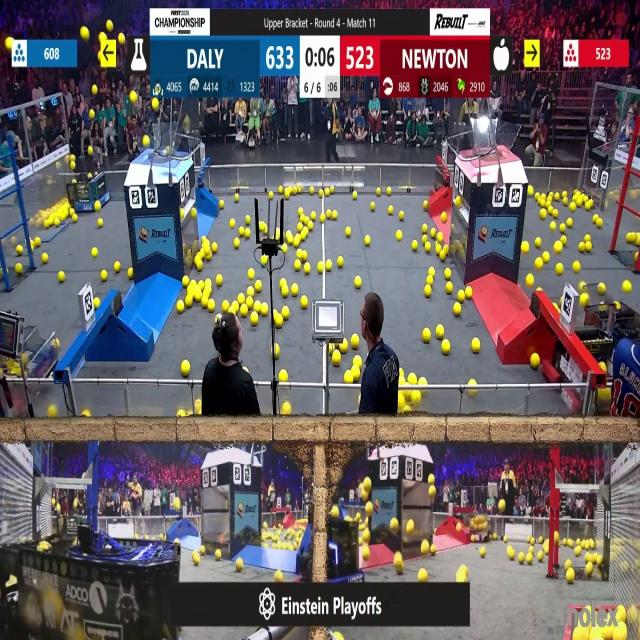ball_airborne: (362, 479, 371, 493), (80, 28, 89, 40), (142, 136, 150, 148), (106, 22, 114, 33), (131, 92, 138, 104), (151, 99, 158, 111), (498, 499, 505, 511), (173, 498, 180, 510), (117, 34, 124, 45), (100, 32, 107, 43), (6, 38, 12, 50), (365, 502, 371, 514), (428, 473, 434, 484), (93, 86, 99, 96), (70, 162, 76, 171), (91, 110, 96, 118), (90, 146, 94, 155), (70, 154, 76, 160), (73, 499, 77, 508)
ball_ground: (394, 554, 403, 574), (457, 567, 467, 582), (531, 353, 539, 369), (282, 404, 291, 418), (181, 360, 189, 375), (195, 290, 203, 305), (443, 340, 451, 354), (471, 339, 479, 353), (351, 336, 359, 350), (250, 313, 258, 326), (280, 368, 288, 381), (566, 569, 574, 582), (419, 569, 427, 582), (334, 352, 342, 365), (421, 540, 429, 553), (341, 341, 349, 354), (587, 562, 594, 576), (193, 399, 200, 413), (177, 302, 185, 314), (556, 265, 564, 277), (624, 281, 632, 293), (345, 372, 353, 384), (48, 407, 56, 419), (262, 305, 270, 317), (282, 308, 290, 320), (579, 293, 587, 305), (555, 242, 563, 254), (276, 569, 284, 581), (446, 282, 454, 294), (423, 328, 430, 341), (438, 325, 445, 338), (237, 559, 244, 572), (302, 295, 309, 308), (192, 553, 199, 566), (353, 367, 360, 380), (354, 277, 362, 288), (275, 316, 283, 327), (410, 374, 418, 385), (627, 233, 635, 244), (526, 275, 533, 287), (465, 287, 472, 299), (454, 305, 461, 317), (208, 300, 215, 312), (522, 242, 529, 254), (362, 548, 369, 560), (241, 306, 248, 318), (353, 356, 361, 366), (246, 296, 254, 306), (252, 303, 260, 313), (203, 287, 211, 297), (301, 231, 309, 241), (363, 530, 369, 543), (419, 376, 426, 387), (291, 284, 298, 295), (598, 283, 605, 294), (254, 281, 261, 292), (293, 261, 300, 272), (578, 242, 585, 253), (324, 262, 331, 273), (539, 209, 546, 220), (535, 260, 542, 271), (185, 295, 192, 306), (526, 554, 533, 565), (60, 272, 66, 284), (216, 275, 222, 287), (305, 264, 311, 276), (286, 233, 292, 245), (572, 631, 580, 640), (424, 286, 431, 296), (282, 287, 289, 297), (458, 290, 465, 300), (363, 236, 370, 246), (445, 270, 452, 280), (258, 221, 265, 231), (586, 201, 593, 211), (292, 238, 299, 248), (302, 250, 309, 260), (338, 256, 344, 267), (248, 269, 254, 280), (222, 302, 228, 313), (573, 263, 579, 274), (182, 276, 188, 287), (15, 265, 21, 276), (102, 271, 108, 282), (586, 242, 592, 253), (425, 242, 431, 253), (507, 549, 513, 560), (195, 260, 201, 271), (177, 411, 185, 419), (247, 287, 254, 296), (565, 560, 572, 569), (205, 252, 212, 261), (42, 253, 48, 263), (114, 264, 120, 274), (215, 551, 221, 561), (535, 238, 541, 248), (542, 252, 548, 262), (212, 243, 218, 253), (263, 255, 269, 265), (578, 281, 584, 291), (94, 297, 100, 307), (318, 264, 324, 274), (296, 250, 302, 260), (528, 184, 533, 196), (16, 245, 22, 255), (233, 303, 239, 313), (242, 228, 248, 238), (238, 293, 244, 303), (560, 222, 566, 232), (519, 554, 525, 564), (429, 543, 435, 553), (276, 346, 281, 358), (441, 251, 447, 261), (231, 218, 237, 228), (308, 220, 314, 230), (596, 218, 602, 228), (276, 232, 282, 242), (586, 553, 592, 563), (574, 546, 580, 556), (129, 269, 134, 280), (93, 248, 99, 257), (235, 239, 241, 248), (388, 206, 394, 215), (98, 218, 104, 227), (396, 232, 402, 241), (35, 238, 41, 247), (537, 553, 543, 562), (320, 214, 326, 223), (428, 268, 434, 277), (243, 216, 249, 225), (551, 221, 557, 230), (570, 203, 576, 212), (422, 223, 428, 232), (199, 280, 205, 289), (399, 377, 405, 386), (311, 212, 317, 221), (539, 199, 545, 208), (330, 210, 336, 219), (546, 208, 552, 217), (189, 279, 195, 288), (413, 242, 418, 252), (443, 212, 448, 222), (430, 230, 435, 240), (456, 198, 461, 208), (327, 344, 332, 354), (190, 209, 195, 219), (82, 412, 89, 419), (269, 190, 275, 198), (284, 190, 290, 198), (398, 367, 404, 375), (555, 191, 561, 199), (469, 379, 475, 387), (386, 187, 392, 195), (435, 246, 441, 254), (439, 234, 445, 242), (634, 252, 640, 260), (546, 192, 552, 200), (201, 544, 206, 553), (427, 276, 432, 285), (567, 218, 572, 227), (481, 549, 486, 558), (346, 229, 351, 238), (283, 244, 288, 253), (398, 211, 403, 220), (469, 535, 475, 542), (562, 190, 568, 197), (369, 203, 374, 211), (219, 201, 224, 209), (423, 202, 428, 210), (97, 203, 101, 213), (296, 223, 301, 231), (280, 279, 285, 287), (534, 191, 539, 199), (529, 544, 534, 552), (56, 218, 61, 226), (554, 209, 558, 218), (562, 237, 566, 246), (492, 534, 498, 540), (586, 235, 591, 242), (423, 235, 428, 242), (617, 304, 622, 311), (563, 199, 568, 206), (297, 208, 302, 215), (319, 190, 324, 197), (236, 193, 240, 201), (299, 215, 303, 223), (543, 544, 547, 552), (175, 538, 180, 544), (73, 215, 77, 222), (353, 191, 357, 198), (378, 188, 382, 195), (531, 537, 535, 544), (503, 535, 507, 542)
goal: (465, 120, 522, 160), (127, 131, 188, 159)
robot_blue: (68, 170, 111, 212)
robot_red: (1, 319, 55, 412), (558, 340, 610, 412), (468, 515, 492, 542)
